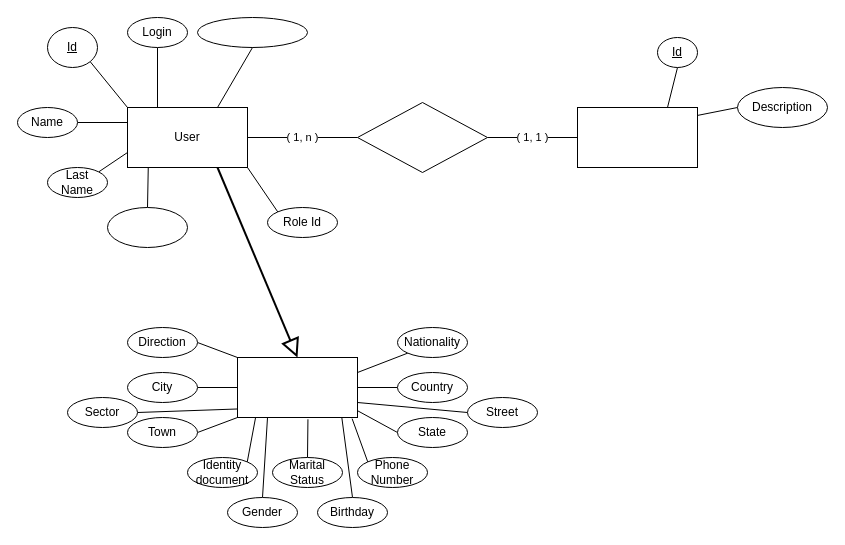
Image size: 845x545. Some labels were removed from this diagram. Each missing label, with the centre of its shape:
Custumer: pixel 297 387
has: pixel 422 137
Password Hash: pixel 252 32
Role: pixel 637 137
User Type: pixel 147 227
